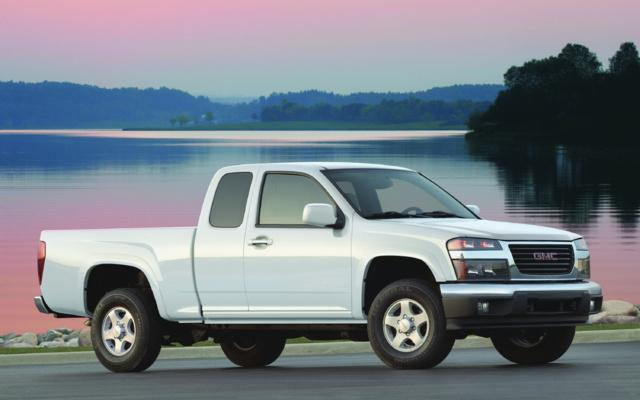GMC: (528, 246, 564, 265)
